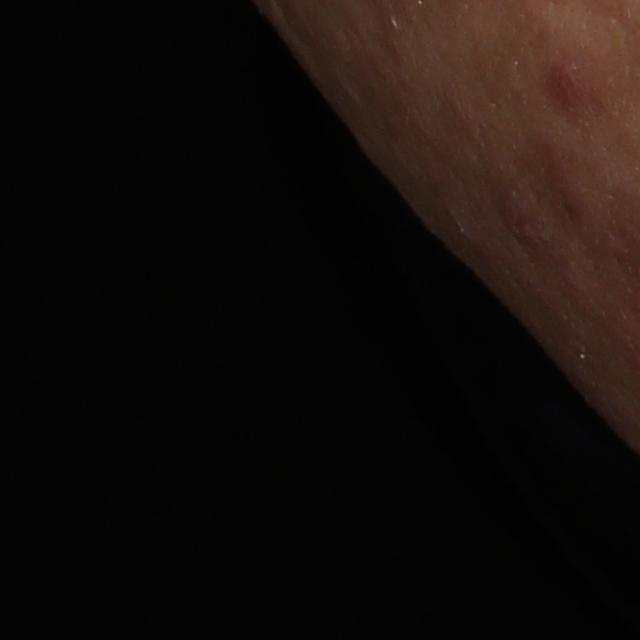papule: (490, 177, 549, 247), (543, 60, 598, 114), (553, 171, 598, 227)
